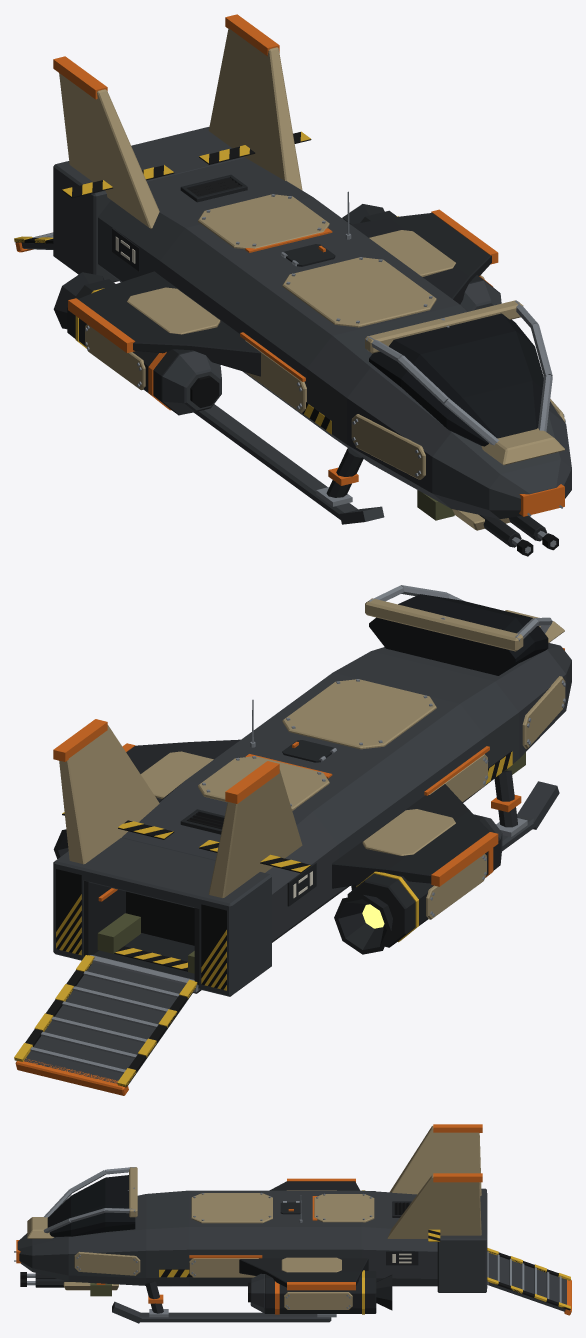
Rendered from skiff.fbx.
3 views of the same model, one above another, from view 1: azimuth 30°, elevation 25°; view 2: azimuth 150°, elevation 25°; view 3: azimuth 270°, elevation 25° (orthographic). The views are drawn at different scales.
Parts seen in each view (by area): view 1: Body, Gun; view 2: Body, Ramp; view 3: Body, Ramp, Gun.
Part boxes in pixels (x1=…): Body: x1=53, y1=14, x2=571, y2=524; Gun: x1=417, y1=490, x2=558, y2=556; Body: x1=53, y1=585, x2=571, y2=996; Ramp: x1=14, y1=955, x2=197, y2=1095; Body: x1=14, y1=1124, x2=488, y2=1323; Ramp: x1=487, y1=1248, x2=571, y2=1315; Gun: x1=20, y1=1272, x2=118, y2=1296.
Size of the model in its own units: 11.66 by 7.7 by 25.95.
Materials: 5 (3 with a texture image).
